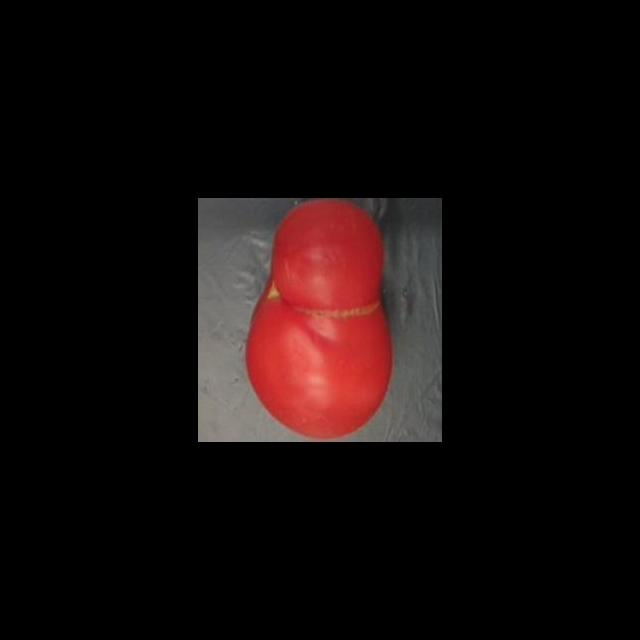tomato: (235, 200, 406, 442)
